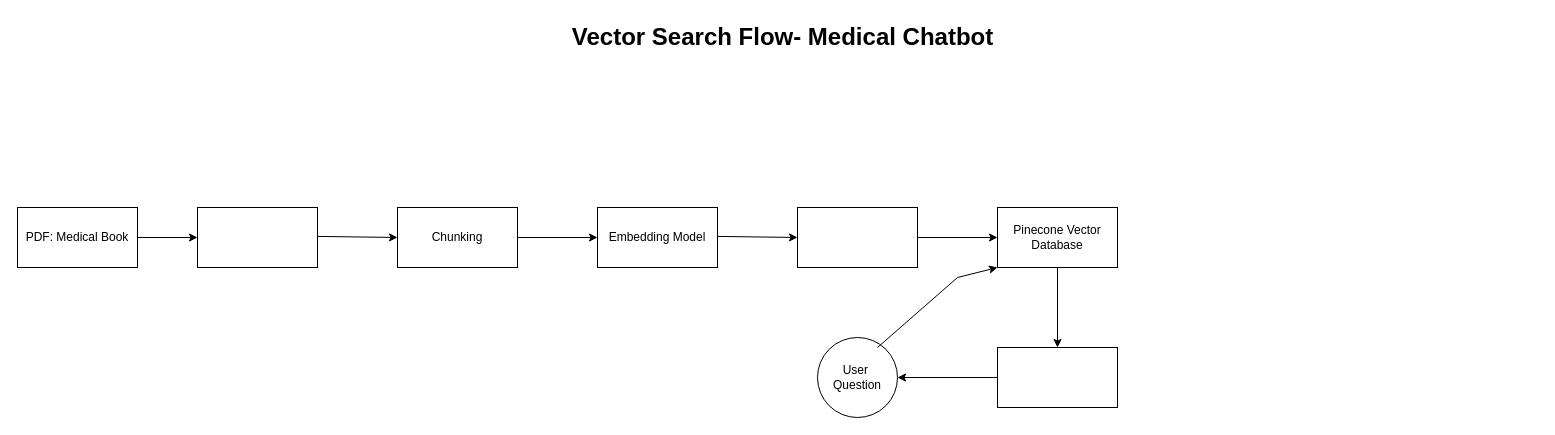
This 1555x435 diagram has some shape labels left out. Each missing label, with the centre of its shape:
"Extract Documents of the Book" belongs at (257,237).
"LLM(Groq)" belongs at (1057,377).
"Vector Embedding" belongs at (857,237).
